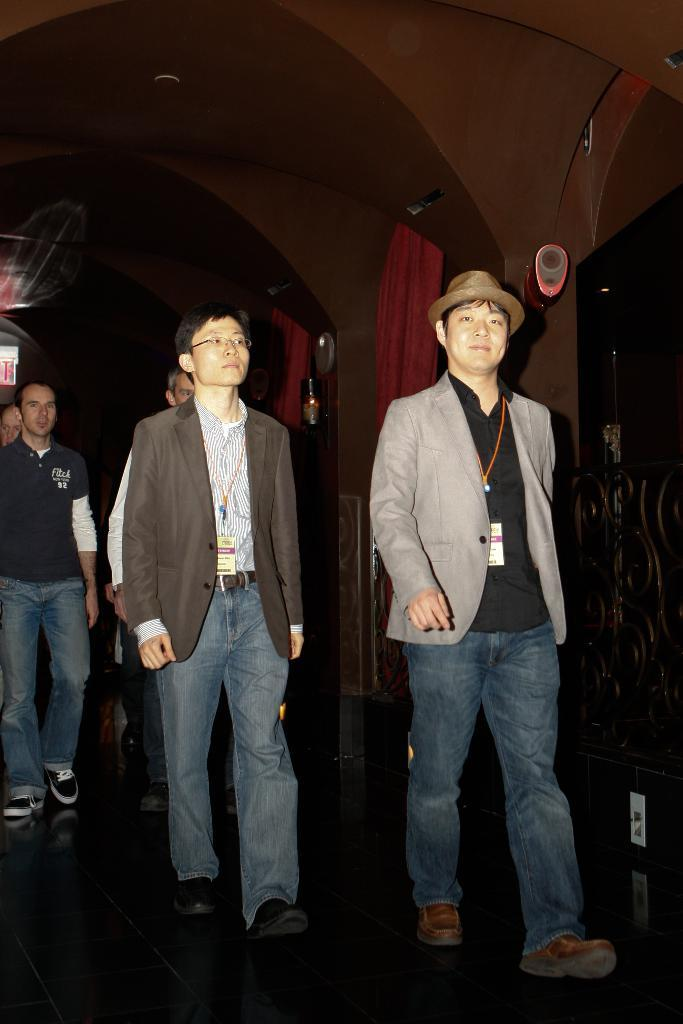Hat: (424, 268, 524, 336)
